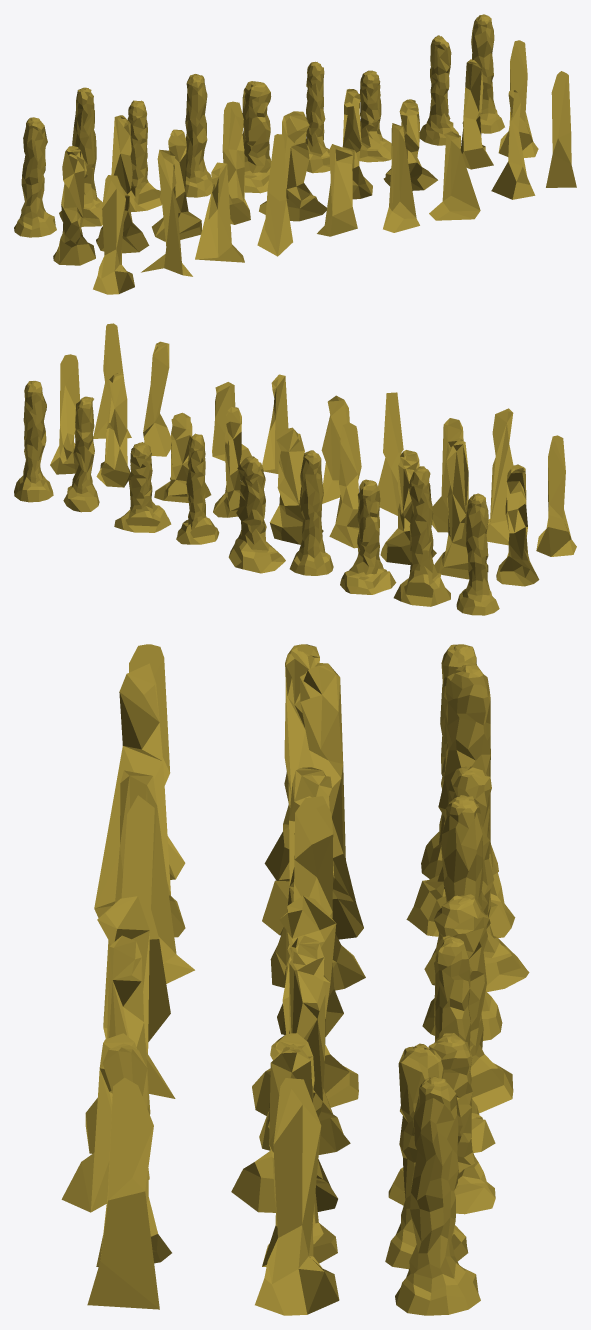
File: canyon_final.FBX
3 renders of one model, top to bottom at view 1: azimuth 30°, elevation 25°; view 2: azimuth 150°, elevation 25°; view 3: azimuth 270°, elevation 25°, orthographic. The views are drawn at different scales.
Parts seen in each view (by area): view 1: Capsule024, Capsule022, Capsule034, Capsule035, Capsule023, Capsule031, Capsule030, Capsule033, Capsule042, Capsule025, Capsule032, Capsule047 (+15 smaller); view 2: Capsule025, Capsule034, Capsule026, Capsule031, Capsule027, Capsule024, Capsule035, Capsule022, Capsule015, Capsule040, Capsule032, Capsule023 (+15 smaller); view 3: Capsule015, Capsule046, Capsule047, Capsule027, Capsule025, Capsule028, Capsule038, Capsule034, Capsule035, Capsule031, Capsule040, Capsule033 (+15 smaller).
Part boxes in pixels (box(x1,y1,x2,y2)): Capsule024: box(14, 117, 56, 237); Capsule022: box(53, 146, 95, 265); Capsule034: box(242, 81, 271, 193); Capsule035: box(259, 111, 326, 221); Capsule023: box(93, 175, 134, 294); Capsule031: box(185, 74, 213, 197); Capsule030: box(195, 162, 244, 262); Capsule033: box(257, 134, 292, 256); Capsule042: box(429, 131, 480, 220); Capsule025: box(59, 87, 102, 226); Capsule032: box(222, 101, 250, 224); Capsule047: box(546, 71, 576, 187); Capsule025: box(393, 466, 450, 606); Capsule034: box(228, 456, 285, 573); Capsule026: box(340, 479, 396, 594); Capsule031: box(289, 450, 333, 575); Capsule027: box(434, 439, 488, 579); Capsule024: box(456, 493, 499, 615); Capsule035: box(269, 427, 323, 544); Capsule022: box(496, 464, 539, 586); Capsule015: box(14, 381, 53, 502); Capsule040: box(114, 442, 171, 532); Capsule032: box(329, 422, 361, 548); Capsule023: box(536, 435, 576, 556); Capsule015: box(395, 1076, 480, 1315); Capsule046: box(255, 1078, 339, 1315); Capsule047: box(87, 1077, 159, 1309); Capsule027: box(262, 663, 363, 939); Capsule025: box(406, 663, 515, 937); Capsule028: box(94, 663, 185, 937); Capsule038: box(259, 935, 350, 1154); Capsule034: box(434, 894, 513, 1113); Capsule035: box(252, 895, 358, 1115); Capsule031: box(422, 795, 502, 1040); Capsule040: box(388, 1033, 495, 1214); Capsule033: box(103, 795, 170, 1041).
Size of the model in its own units: 35319 by 9359 by 14966.
